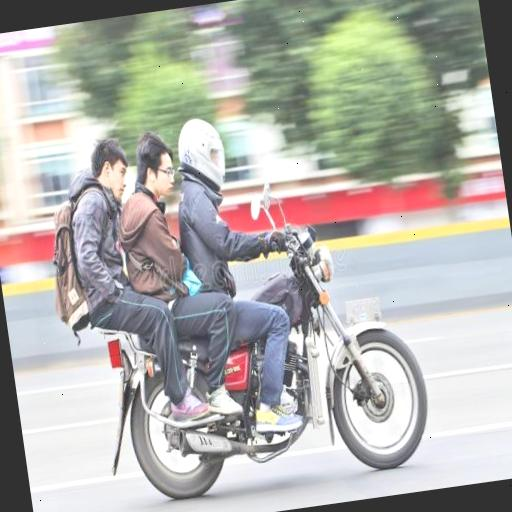helmet: (160, 104, 262, 272)
triple riding: (30, 74, 436, 508)
